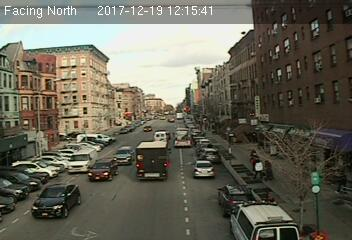car: (30, 184, 81, 219), (218, 181, 254, 214), (87, 157, 119, 179), (114, 145, 135, 165), (193, 160, 214, 177), (200, 148, 220, 163)
police: (228, 198, 304, 240)
truck: (66, 147, 96, 171), (174, 128, 191, 147), (152, 130, 167, 142)
ups: (136, 142, 171, 181)
